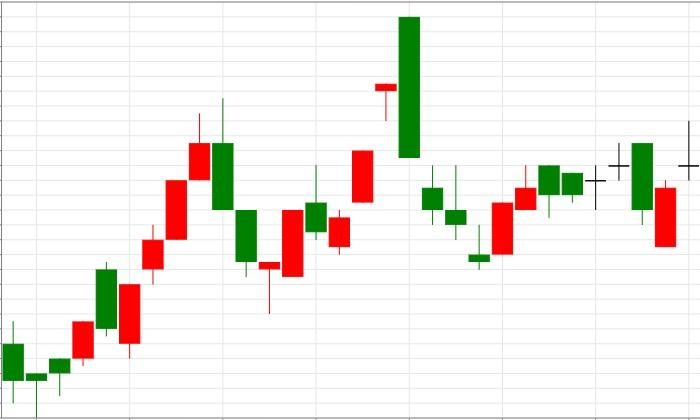bearish_engulfing_fall: (26, 97, 233, 418), (258, 17, 420, 314)
